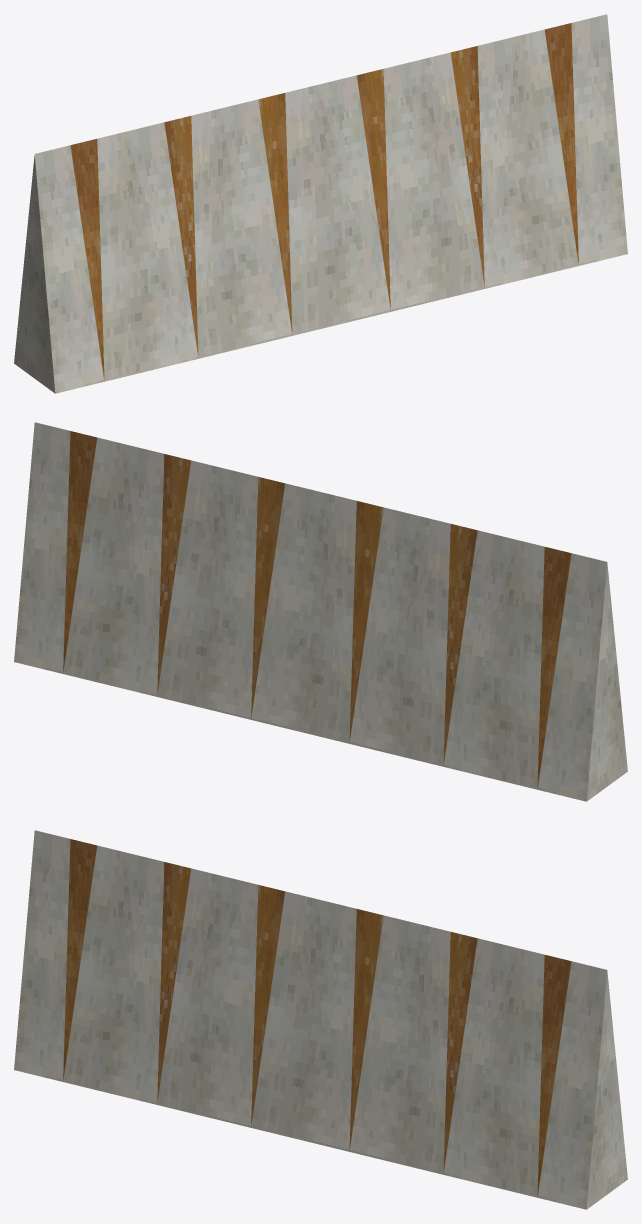
The model's file is mun_all_military_wall_med_rebl_16_s01_l2.fbx.
3 renders of one model, top to bottom at view 1: azimuth 30°, elevation 25°; view 2: azimuth 150°, elevation 25°; view 3: azimuth 330°, elevation 25°, orthographic.
Parts seen in each view (by area): view 1: mesh_node; view 2: mesh_node; view 3: mesh_node.
Part boxes in pixels (<box>): mesh_node: <box>14,14,627,393</box>; mesh_node: <box>14,422,627,801</box>; mesh_node: <box>14,830,627,1209</box>.
Bounding box in the file's own units: 16 × 6 × 2.
